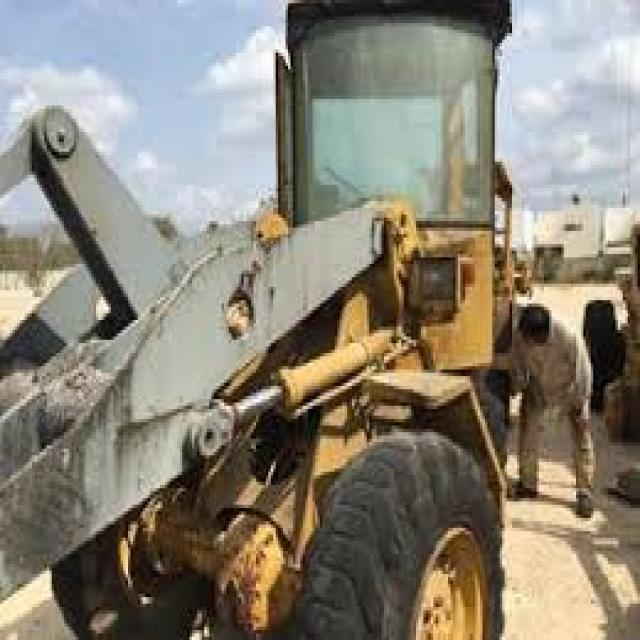buldozerpayloadergrader: (174, 1, 535, 640)
